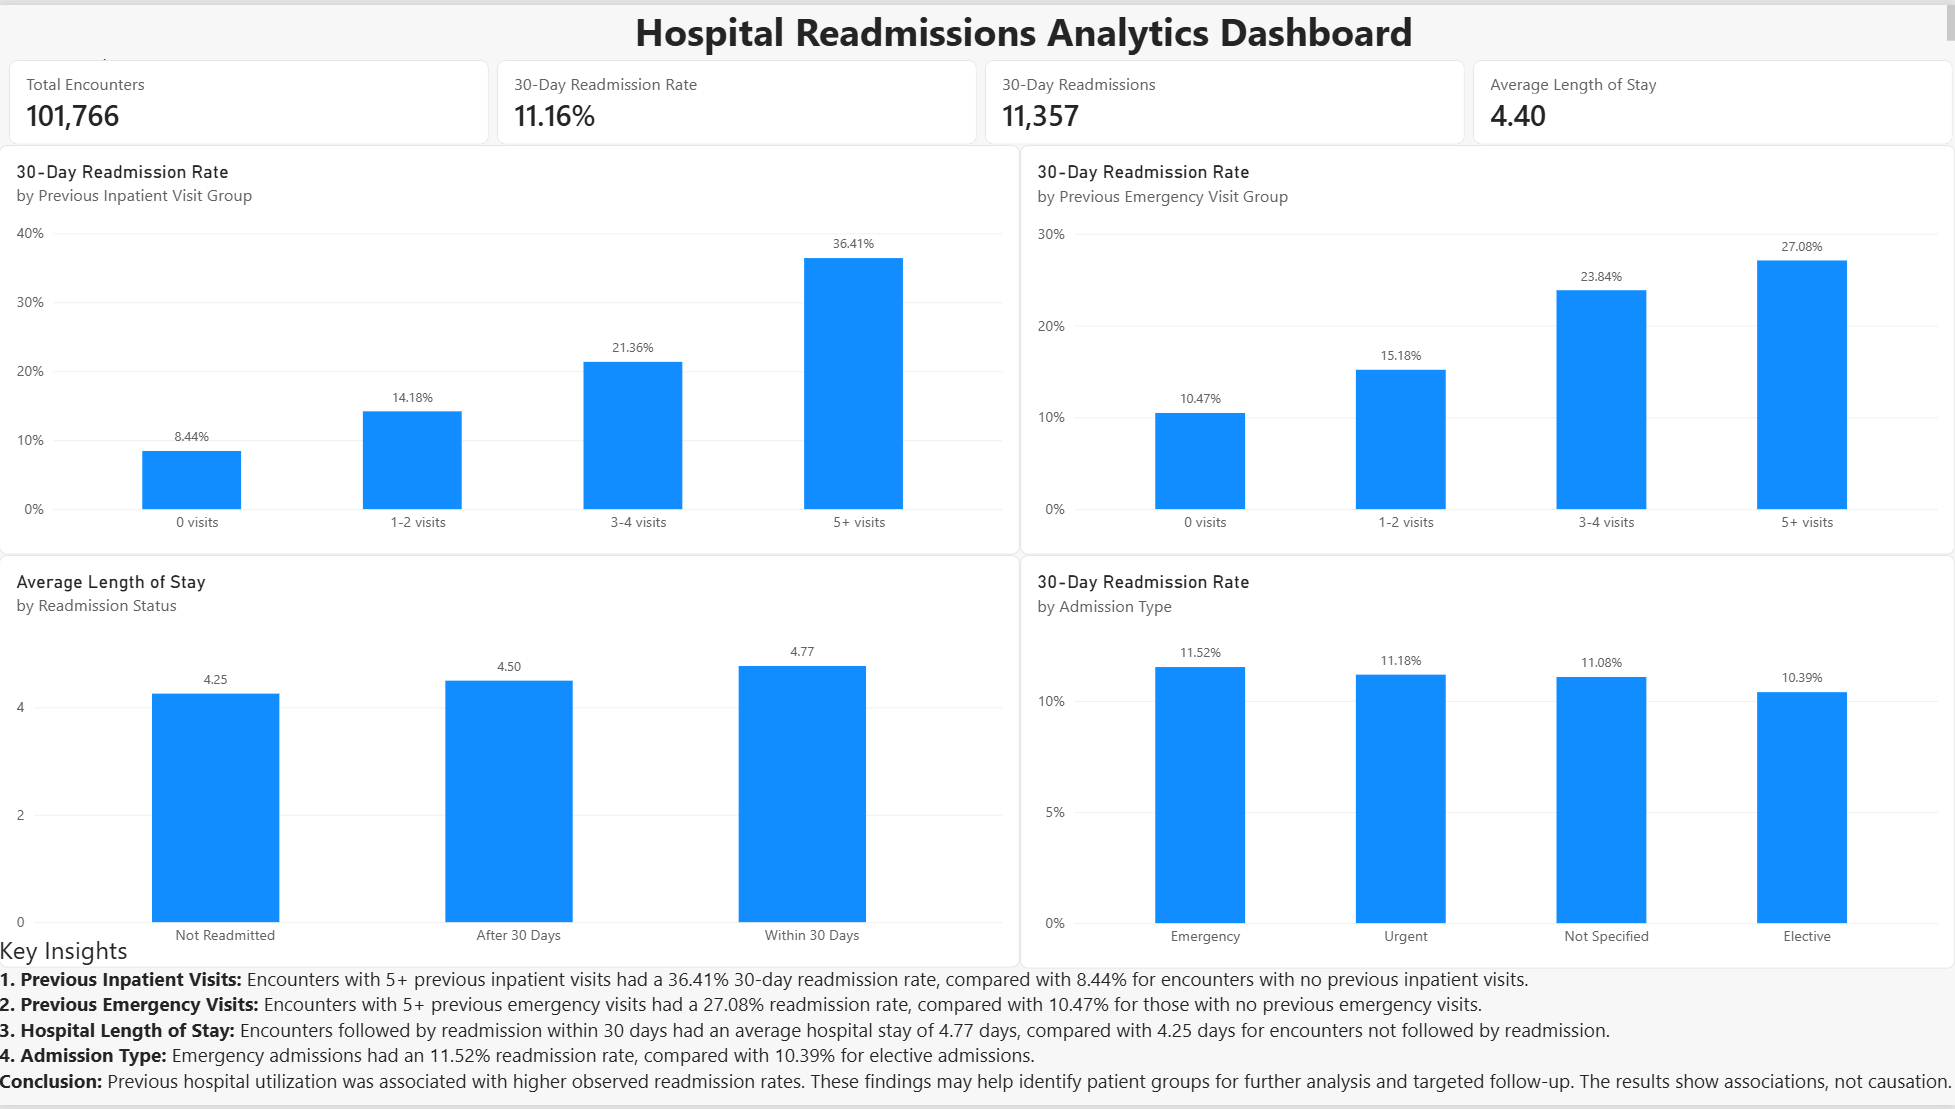

This screenshot's page, from the dashboard's own definition file:
{"tool":"powerbi","page":{"name":"Page 1","canvas":[1920,1080],"ordinal":0},"visuals":[{"type":"cardVisual","fields":{"Data":["diabetic_data.Total Encounters","diabetic_data.30-Day Readmission Rate","diabetic_data.30-Day Readmissions Display","diabetic_data.Average Length of Stay"]},"box":[9.8,54,1910.2,83.4],"z":0},{"type":"clusteredColumnChart","fields":{"Category":["diabetic_data.Previous Inpatient Visit Group"],"Y":["diabetic_data.30-Day Readmission Rate"]},"box":[0,137.4,1002.2,402.5],"z":1000},{"type":"clusteredColumnChart","fields":{"Category":["diabetic_data.Previous Emergency Visit Group"],"Y":["diabetic_data.30-Day Readmission Rate"]},"box":[1002.2,137.4,917.8,402.5],"z":2000},{"type":"clusteredColumnChart","fields":{"Category":["diabetic_data.Readmission Status"],"Y":["diabetic_data.Average Length of Stay"]},"box":[0,539.9,1002.2,405.4],"z":3000},{"type":"clusteredColumnChart","fields":{"Category":["diabetic_data.Admission Type"],"Y":["diabetic_data.30-Day Readmission Rate"]},"box":[1002.2,539.9,917.8,406.4],"z":4000},{"type":"textbox","box":[100.1,0,1819.9,54],"z":5000},{"type":"textbox","box":[0,910.9,1920,168.8],"z":6000}]}

Visuals, with their boxes in screenshot pixels (x1, y1, x2, y2), scaled from the page's 1920x1080 canvas onto the 1955x1109 screenshot:
cardVisual - diabetic_data.Total Encounters x diabetic_data.30-Day Readmission Rate: BBox(10, 55, 1954, 141)
clusteredColumnChart - diabetic_data.Previous Inpatient Visit Group x diabetic_data.30-Day Readmission Rate: BBox(0, 141, 1020, 554)
clusteredColumnChart - diabetic_data.Previous Emergency Visit Group x diabetic_data.30-Day Readmission Rate: BBox(1020, 141, 1954, 554)
clusteredColumnChart - diabetic_data.Readmission Status x diabetic_data.Average Length of Stay: BBox(0, 554, 1020, 971)
clusteredColumnChart - diabetic_data.Admission Type x diabetic_data.30-Day Readmission Rate: BBox(1020, 554, 1954, 972)
textbox: BBox(102, 0, 1954, 55)
textbox: BBox(0, 935, 1954, 1108)
